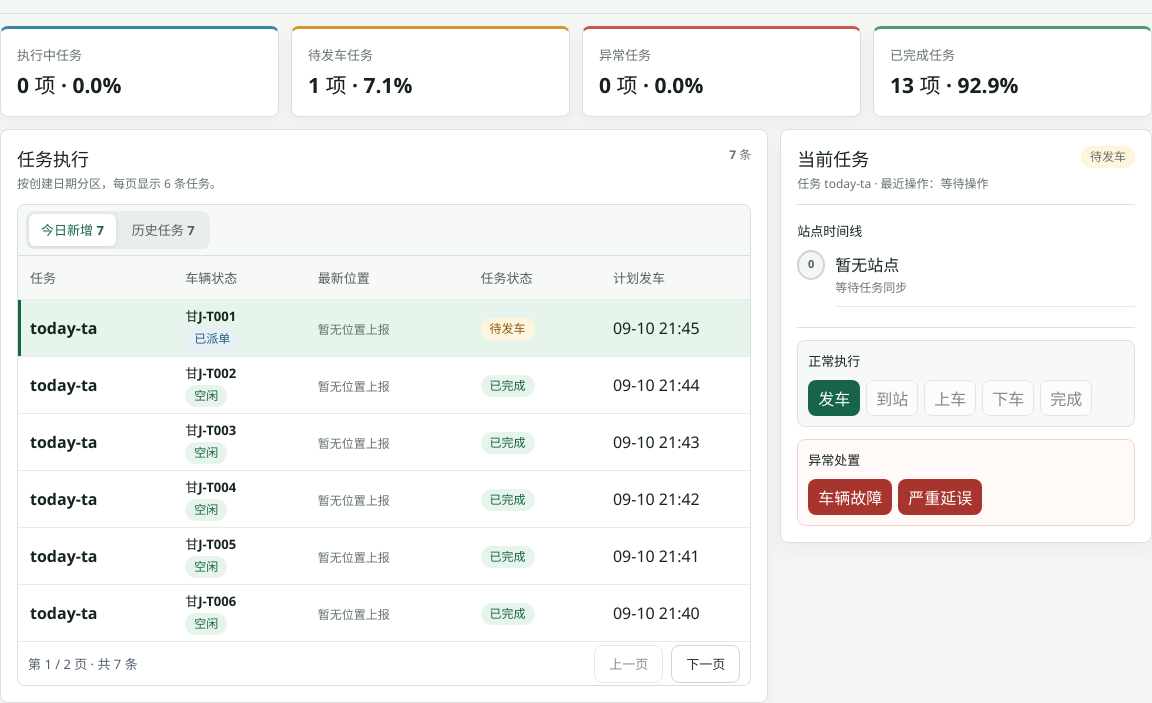
it: TasksPage › 每页显示六条任务，并分别保留今日与历史页码和车辆状态
The width and height of the screenshot is (1152, 703).
(page scrolled)
Expected: the text "第 1 / 2 页 · 共 7 条" is shown, [28, 654, 138, 673]
Expected: the row "today-ta 甘J-T001 已派单 暂无位置上报 待发车 09-10 21:45 选择" is shown, [18, 300, 751, 357]
What coordinates should you click on to do the following:
click the button "下一页"
I would click on:
 (706, 664)
Its box is [671, 645, 740, 683].
(page scrolled)
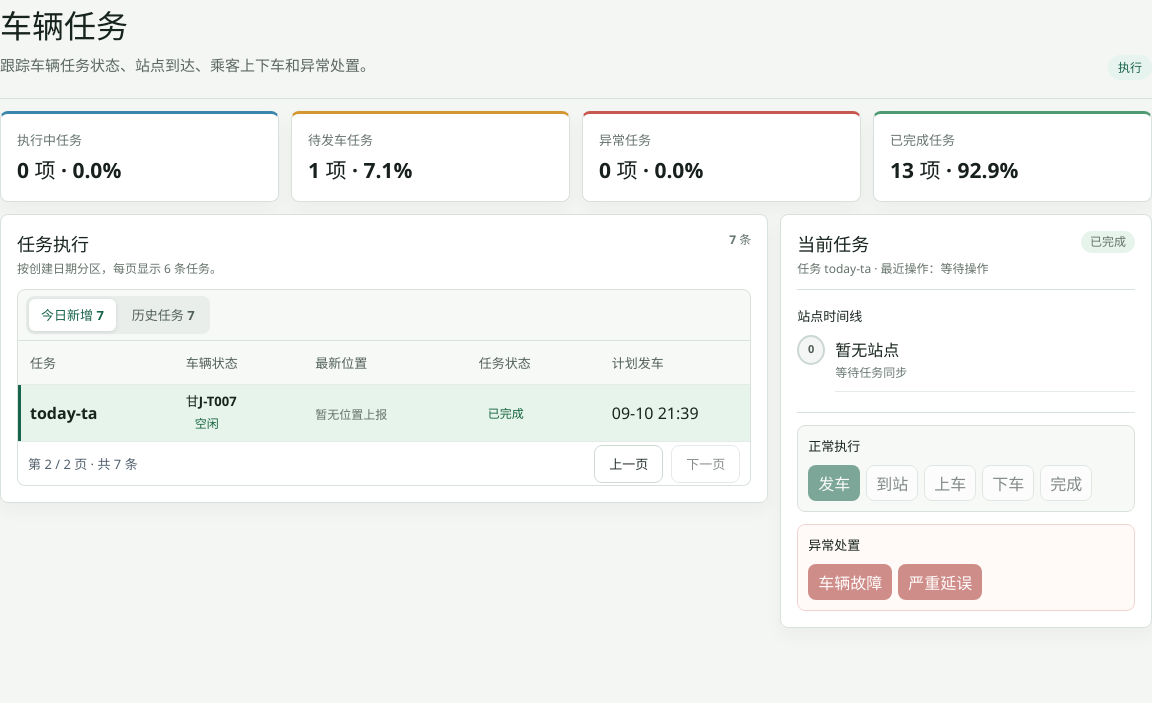
Expected: the text "甘J-T007" is shown, [186, 391, 237, 410]
Expected: the text "第 2 / 2 页 · 共 7 条" is shown, [28, 454, 138, 473]
What coordinates should you click on to do the following:
click the button "历史任务 7"
I would click on:
 (163, 315)
Its box is [120, 299, 207, 331].
(page scrolled)
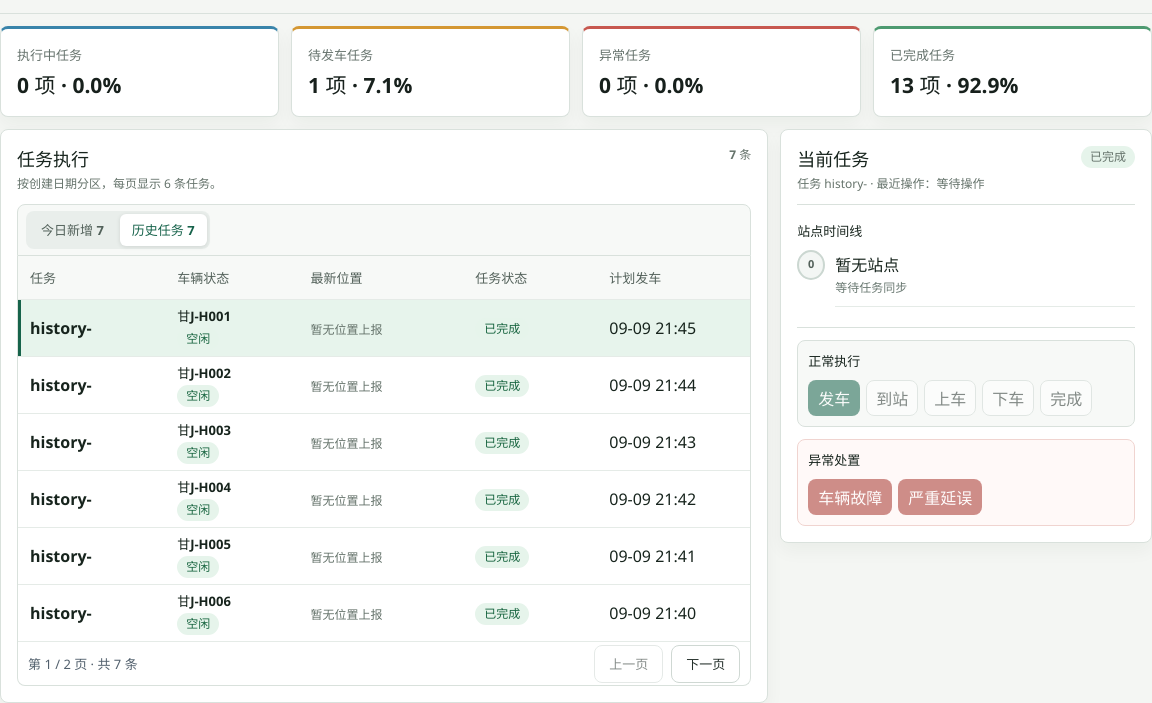
Expected: the table named "历史任务列表" is shown, [18, 256, 751, 642]
Expected: the text "第 1 / 2 页 · 共 7 条" is shown, [28, 654, 138, 673]
What coordinates should you click on to do the following:
click the button "下一页"
I would click on:
 (706, 664)
Its box is [671, 645, 740, 683].
(page scrolled)
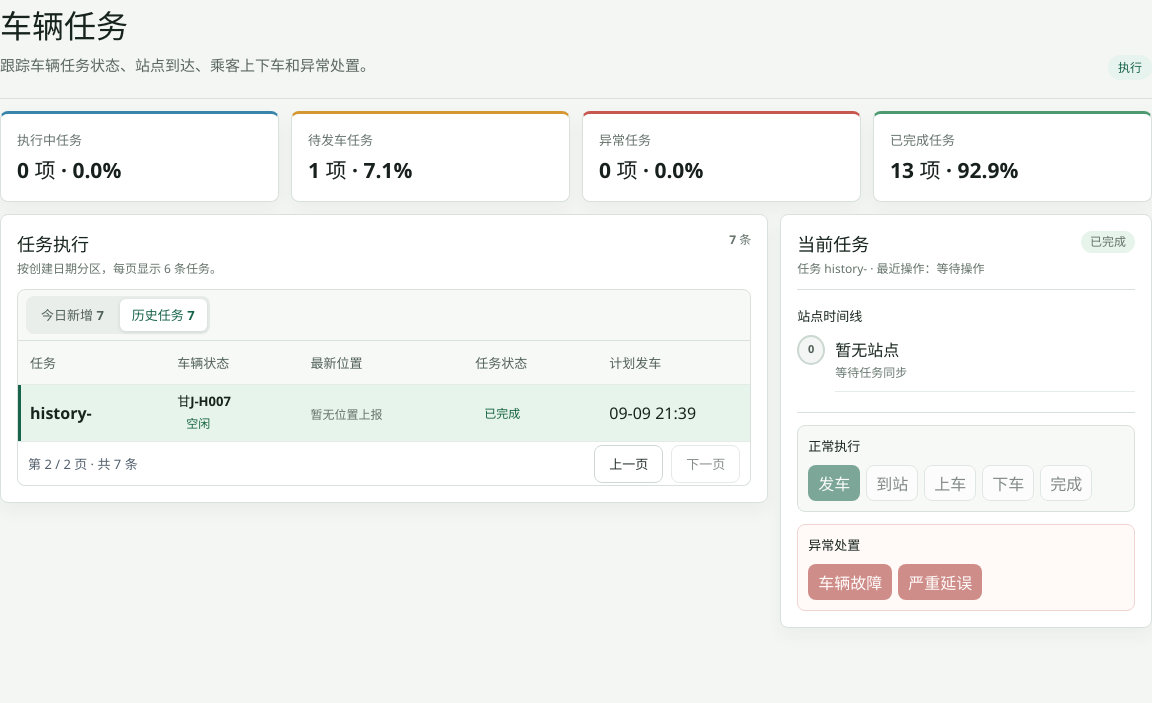
Expected: the text "甘J-H007" is shown, [177, 391, 231, 410]
What coordinates should you click on to do the following:
click the button "今日新增 7"
I would click on:
 (72, 315)
Its box is [29, 299, 116, 331].
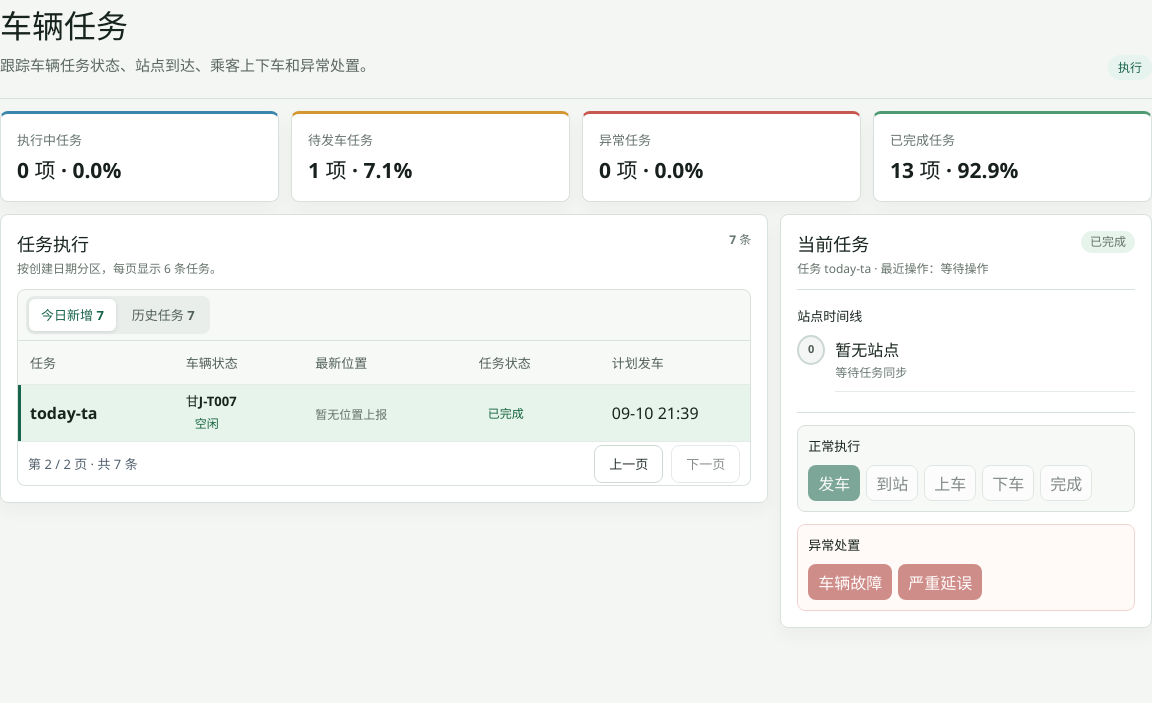
Expected: the text "第 2 / 2 页 · 共 7 条" is shown, [28, 454, 138, 473]
Expected: the text "甘J-T007" is shown, [186, 391, 237, 410]
